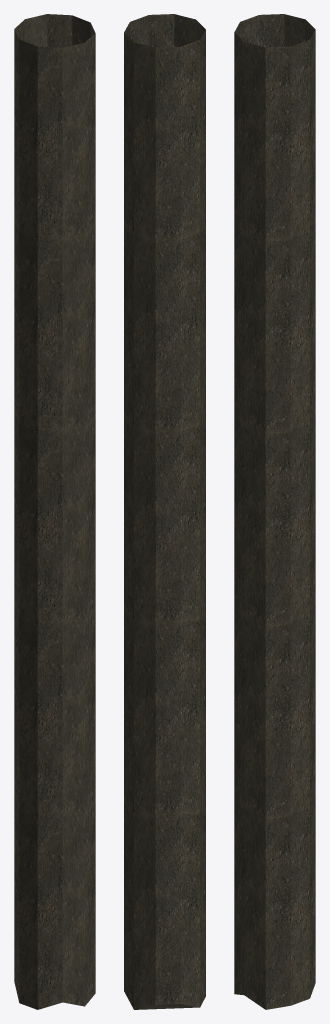
File: EVT_TPL_PILLAR_01.OBJ
3 renders of one model, left to right at view 1: azimuth 30°, elevation 25°; view 2: azimuth 150°, elevation 25°; view 3: azimuth 330°, elevation 25°, orthographic.
Visible parts, largest first — view 1: EVT_TPL_PILLAR_01; view 2: EVT_TPL_PILLAR_01; view 3: EVT_TPL_PILLAR_01.
Part boxes in pixels (x1=…): EVT_TPL_PILLAR_01: x1=14, y1=14, x2=95, y2=1009; EVT_TPL_PILLAR_01: x1=124, y1=14, x2=205, y2=1009; EVT_TPL_PILLAR_01: x1=234, y1=14, x2=315, y2=1009.
Size of the model in its own units: 1.16 by 15.07 by 1.11.
